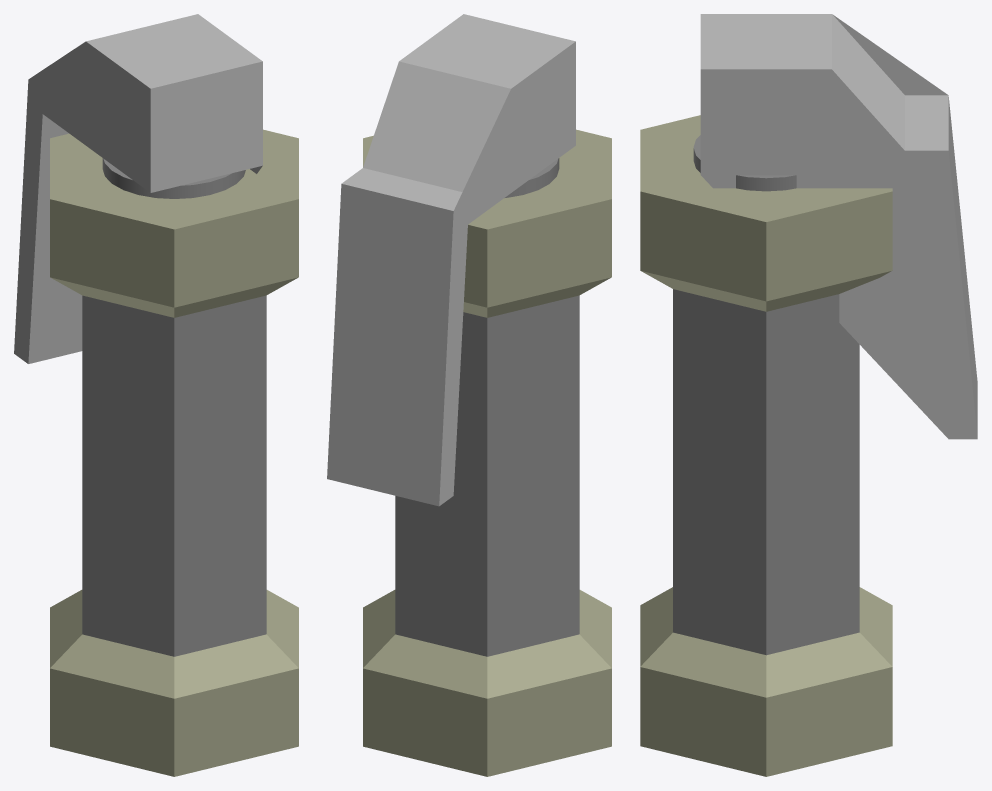
Rendered from grenadeFlash.glb.
The picture shows the model from 3 angles, left to right: view 1: azimuth 30°, elevation 25°; view 2: azimuth 150°, elevation 25°; view 3: azimuth 270°, elevation 25°; orthographic projection.
Visible parts, largest first — view 1: Mesh1 Group2 Group1 Model, Mesh2 Group3 Group1 Model; view 2: Mesh1 Group2 Group1 Model, Mesh2 Group3 Group1 Model; view 3: Mesh1 Group2 Group1 Model, Mesh2 Group3 Group1 Model.
Part boxes in pixels (x1,y1,x2,y2): Mesh1 Group2 Group1 Model: [50, 129, 298, 776]; Mesh2 Group3 Group1 Model: [14, 14, 262, 363]; Mesh1 Group2 Group1 Model: [363, 129, 611, 776]; Mesh2 Group3 Group1 Model: [327, 14, 575, 506]; Mesh1 Group2 Group1 Model: [640, 115, 892, 776]; Mesh2 Group3 Group1 Model: [700, 14, 977, 439].
Bounding box in the file's own units: 0.012 × 0.0306 × 0.0139.
